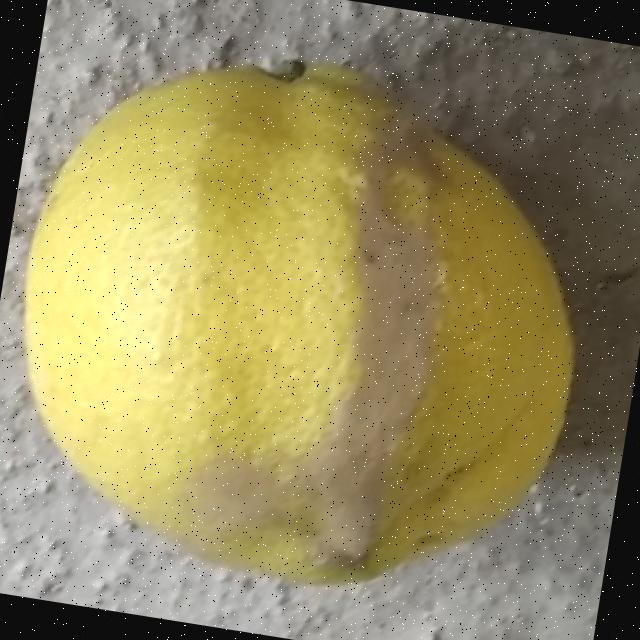overripe: (0, 13, 627, 631)
